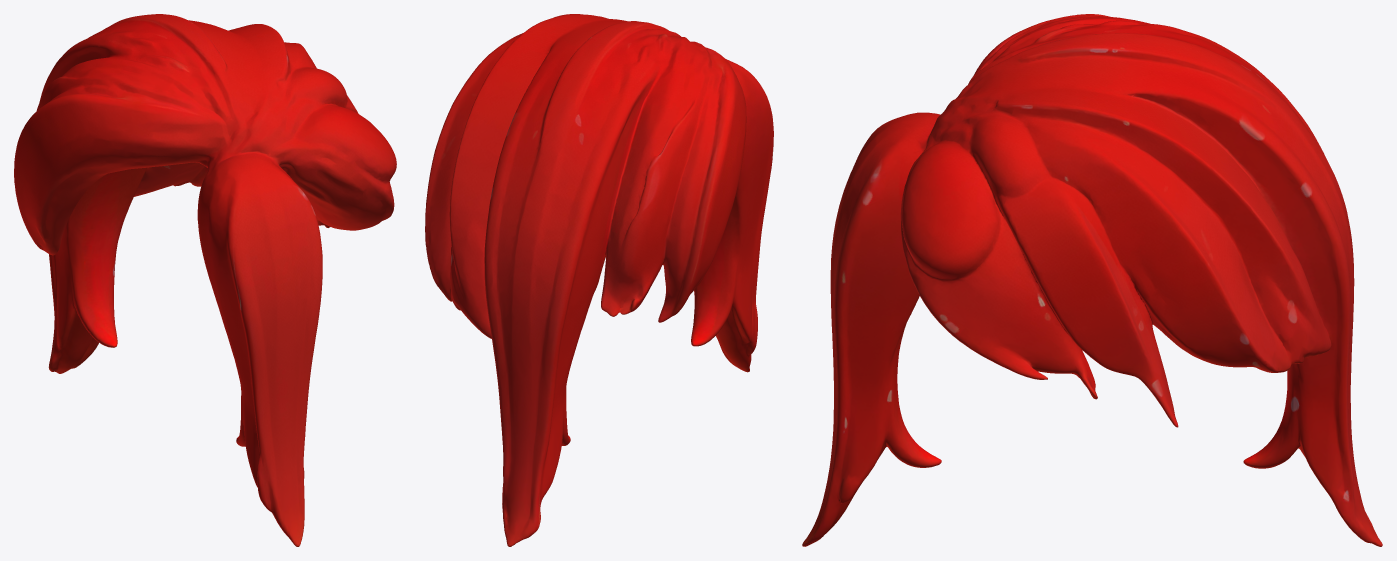
The model's file is E003HikaruHair.glb.
3 renders of one model, left to right at view 1: azimuth 30°, elevation 25°; view 2: azimuth 150°, elevation 25°; view 3: azimuth 270°, elevation 25°, orthographic. The views are drawn at different scales.
Visible parts, largest first — view 1: tripo_node_31effc2e-0fd7-466b-a7d1-ad20059cd9f8; view 2: tripo_node_31effc2e-0fd7-466b-a7d1-ad20059cd9f8; view 3: tripo_node_31effc2e-0fd7-466b-a7d1-ad20059cd9f8.
Part boxes in pixels (x1,y1,x2,y2): tripo_node_31effc2e-0fd7-466b-a7d1-ad20059cd9f8: (14,14,396,546); tripo_node_31effc2e-0fd7-466b-a7d1-ad20059cd9f8: (425,14,773,546); tripo_node_31effc2e-0fd7-466b-a7d1-ad20059cd9f8: (802,14,1382,546).
Size of the model in its own units: 0.6622 by 0.9318 by 0.9484.
Materials: 1 (1 with a texture image).
